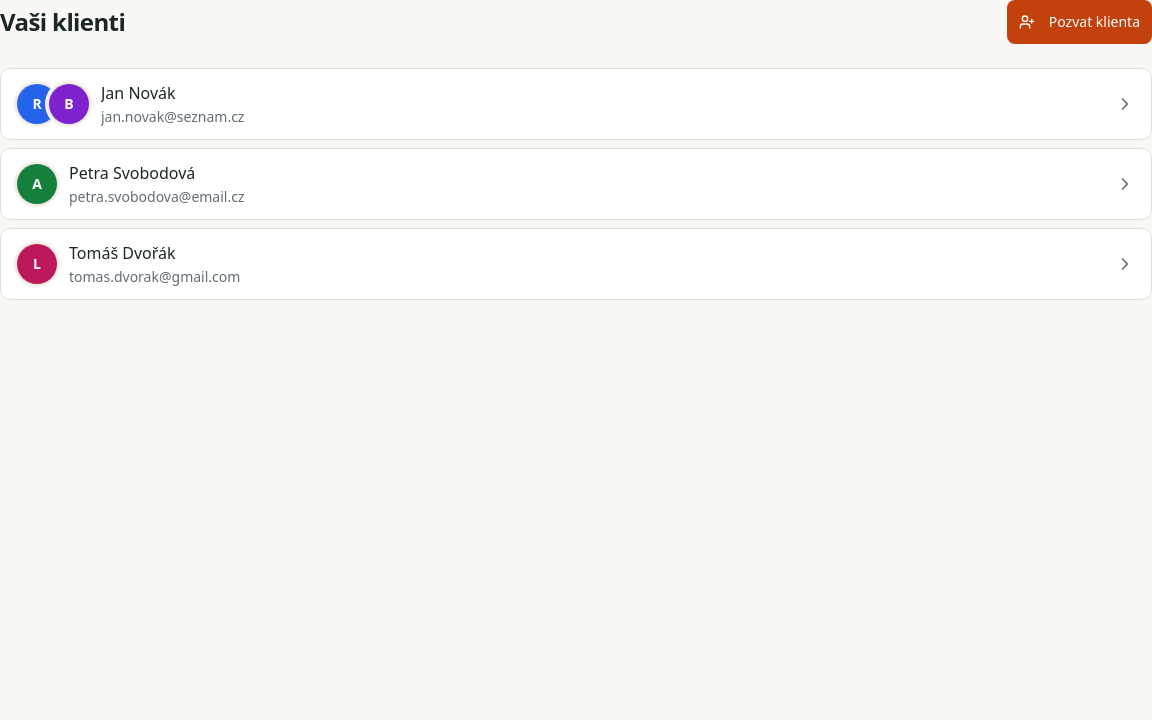
it: ClientList › sends email invitation when email is submitted in dialog
Step 1. Click the button "Pozvat klienta" → click(1079, 22), box [1007,0,1151,44]
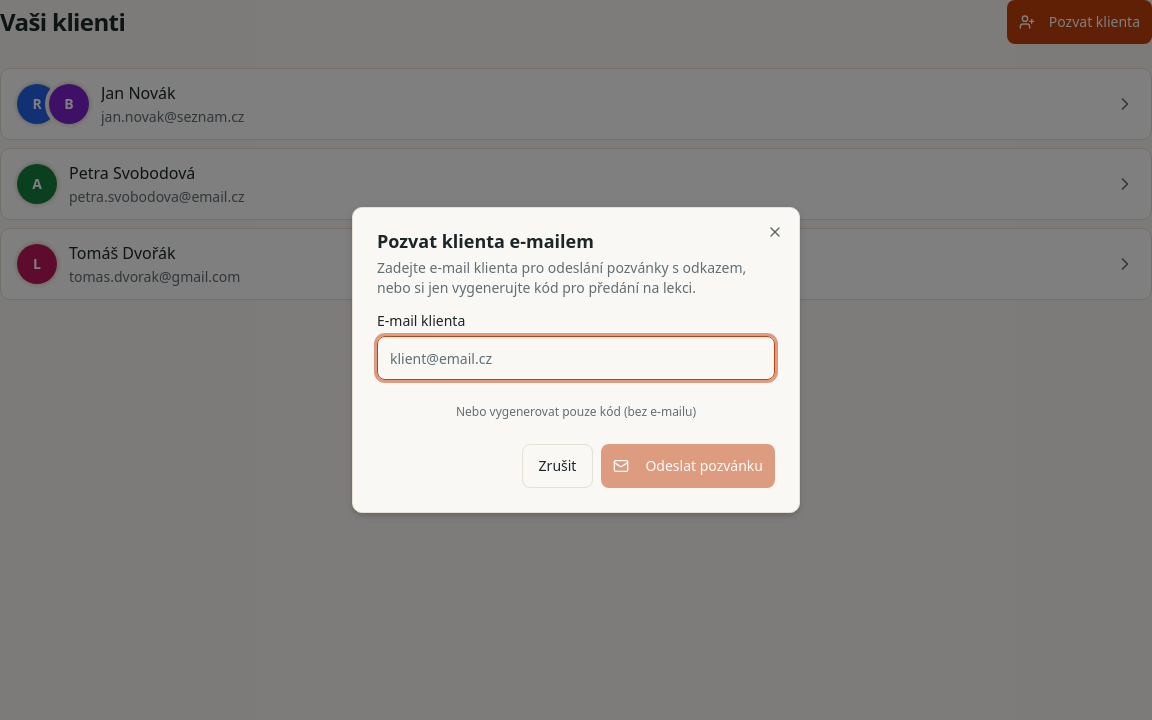
Step 2. Type "novy@example.com" into the field labelled "E-mail klienta" → (576, 358), box [377,336,775,380]
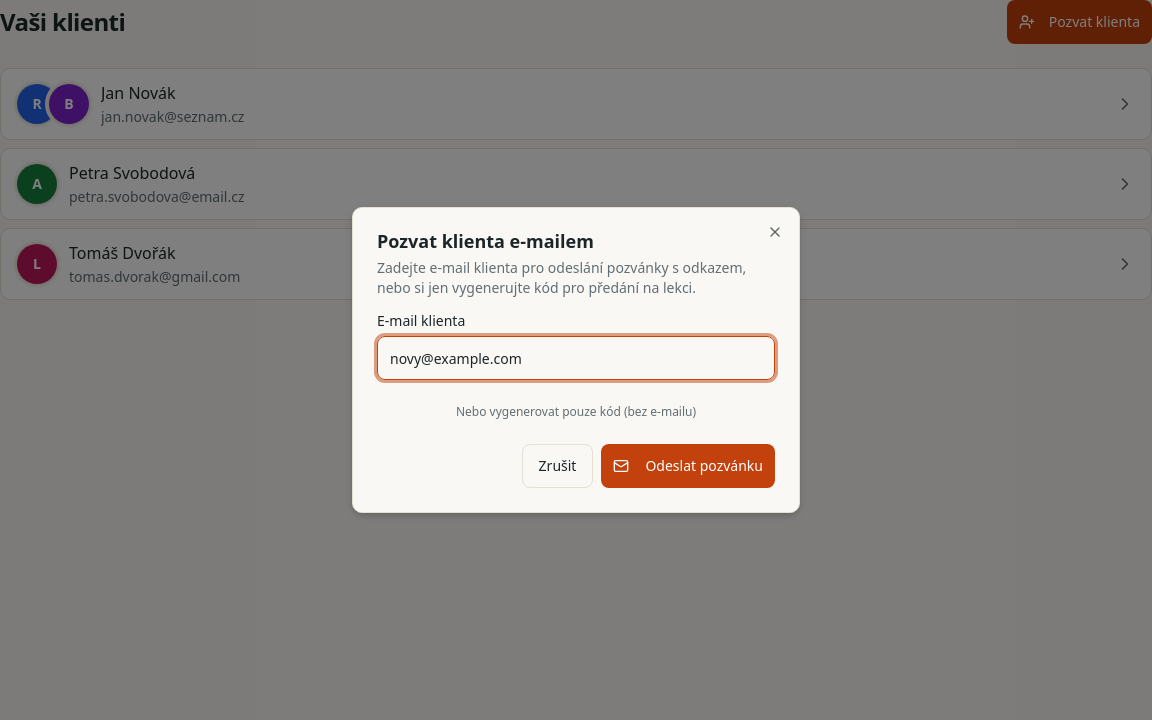
Step 3. Click the button "Odeslat pozvánku" → click(688, 466), box [601,444,775,488]
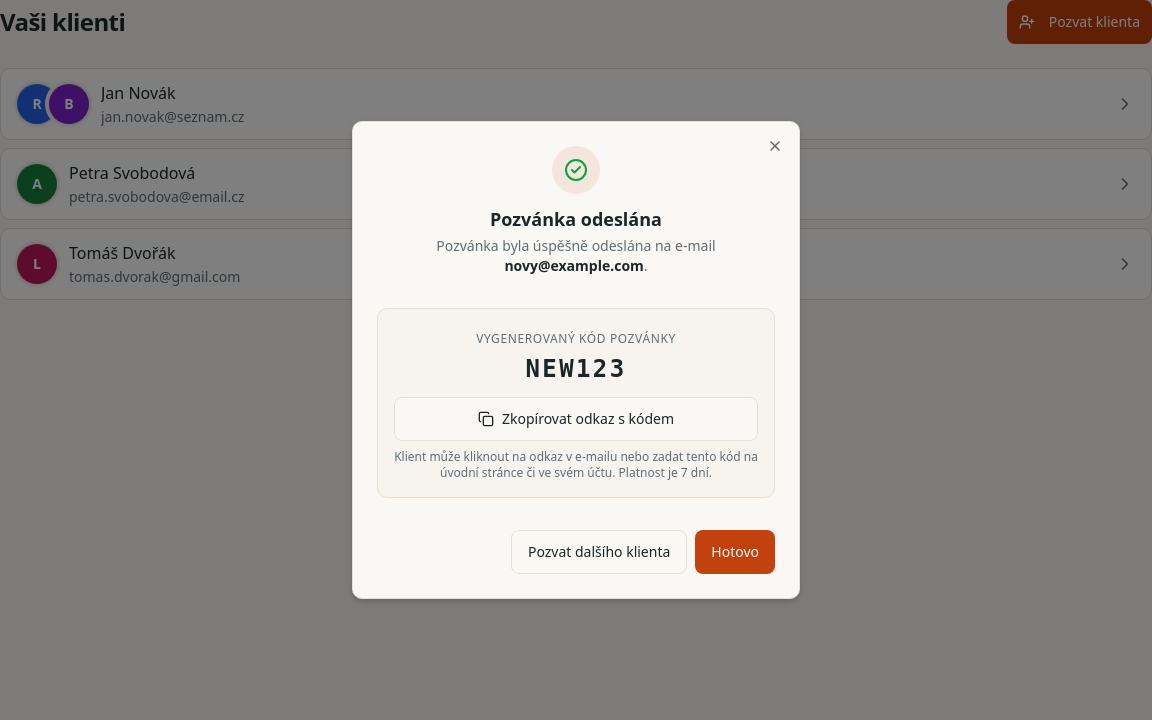
Expected: the heading "Pozvánka odeslána" is shown, [490,207,662,231]
Expected: the text "NEW123" is shown, [525,355,626,383]
